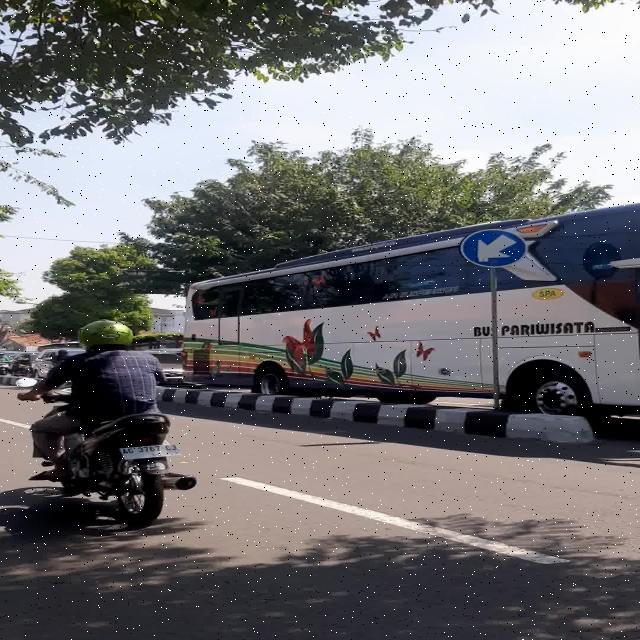Lajur Kiri: (460, 228, 527, 268)
